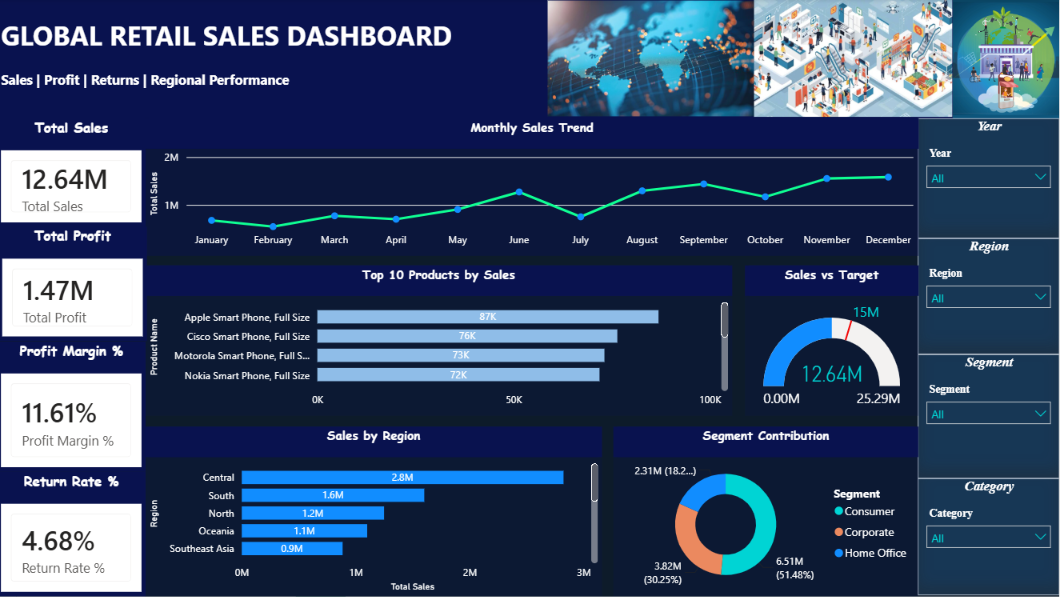

The page's visual inventory and layout, read from the dashboard file:
{"tool":"powerbi","page":{"name":"DashBoard","canvas":[1280,720],"ordinal":0},"visuals":[{"type":"textbox","box":[0,0,1279.9,144.5],"z":0},{"type":"image","box":[1151,0,128.9,144.5],"z":1000},{"type":"image","box":[663.4,0,249,144.5],"z":2000},{"type":"image","box":[912.4,0,238.6,144.5],"z":3000},{"type":"slicer","title":"Year","fields":{"Values":["Orders.Year"]},"box":[1109.2,144.5,170.6,144.5],"z":4000},{"type":"slicer","title":"Region","fields":{"Values":["People.Region"]},"box":[1109.2,289.1,170.6,139.3],"z":5000},{"type":"slicer","title":"Segment","fields":{"Values":["Orders.Segment"]},"box":[1109.2,428.4,170.6,149.8],"z":6000},{"type":"slicer","title":"Category","fields":{"Values":["Orders.Category"]},"box":[1109.2,578.1,170.6,141],"z":7000},{"type":"cardVisual","title":"Total Sales","fields":{"Data":["Orders.Total Sales"]},"box":[0,144.5,179.4,130.6],"z":8000},{"type":"cardVisual","title":"Total Profit","fields":{"Data":["Orders.Total Profit"]},"box":[1.7,275.1,179.4,137.6],"z":9000},{"type":"cardVisual","title":"Profit Margin %","fields":{"Data":["Orders.Profit Margin %"]},"box":[0,412.7,179.4,156.7],"z":10000},{"type":"cardVisual","title":"Return Rate %","fields":{"Data":["Orders.Return Rate %"]},"box":[0,570,179,150],"z":11000},{"type":"lineChart","title":"Monthly Sales Trend","fields":{"Category":["Orders.Order Date.Variation.Date Hierarchy.Month"],"Y":["Orders.Total Sales"]},"box":[179.4,144.5,931.6,165.4],"z":12000},{"type":"clusteredBarChart","title":"Sales by Region","fields":{"Category":["People.Region"],"Y":["Orders.Total Sales"]},"box":[179.4,515.4,550.3,203.7],"z":13000},{"type":"donutChart","title":"Segment Contribution","fields":{"Category":["Orders.Segment"],"Y":["Orders.Total Sales"]},"box":[741.8,515.4,367.4,203.7],"z":14000},{"type":"clusteredBarChart","title":"Top 10 Products by Sales","fields":{"Category":["Orders.Product Name"],"Y":["Orders.Total Sales"]},"box":[180.2,321.6,707,181.1],"z":15000},{"type":"gauge","title":"Sales vs Target","fields":{"Y":["Orders.Total Sales"],"TargetValue":["Orders.Sales Target"]},"box":[900.3,322.1,209,181.1],"z":16000}]}

Visuals, with their boxes in screenshot pixels (x1, y1, x2, y2), scaled from the page's 1280x720 canvas onto the 1060x597 screenshot:
textbox: 0:0:1059:120
image: 953:0:1059:120
image: 549:0:756:120
image: 756:0:953:120
"Year" slicer: 919:120:1059:240
"Region" slicer: 919:240:1059:355
"Segment" slicer: 919:355:1059:479
"Category" slicer: 919:479:1059:596
"Total Sales" cardVisual: 0:120:149:228
"Total Profit" cardVisual: 1:228:150:342
"Profit Margin %" cardVisual: 0:342:149:472
"Return Rate %" cardVisual: 0:473:148:596
"Monthly Sales Trend" lineChart: 149:120:920:257
"Sales by Region" clusteredBarChart: 149:427:604:596
"Segment Contribution" donutChart: 614:427:919:596
"Top 10 Products by Sales" clusteredBarChart: 149:267:735:417
"Sales vs Target" gauge: 746:267:919:417
